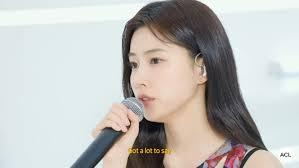earphone: (196, 64, 209, 78)
